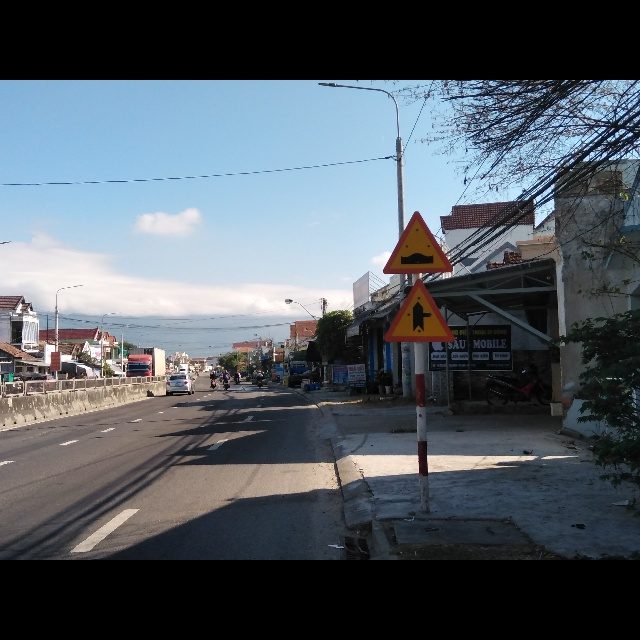Giao nhau với đường không ưu tiên: (382, 280, 458, 343)
Đường không bằng phẳng: (381, 208, 454, 276)
